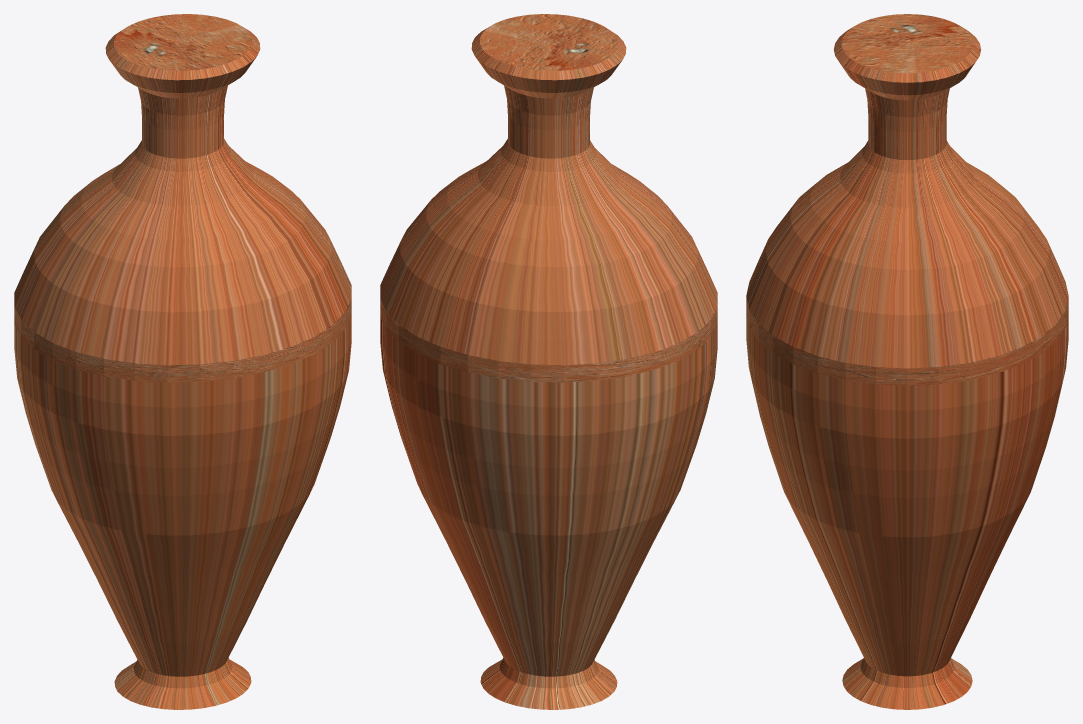
The model's file is Vase3.fbx.
The picture shows the model from 3 angles, left to right: view 1: azimuth 30°, elevation 25°; view 2: azimuth 150°, elevation 25°; view 3: azimuth 270°, elevation 25°; orthographic projection.
Parts seen in each view (by area): view 1: Vase3; view 2: Vase3; view 3: Vase3.
Boxes of the visible parts, left/top/right/bottom form: Vase3: left=14, top=14, right=351, bottom=709; Vase3: left=380, top=14, right=717, bottom=709; Vase3: left=746, top=14, right=1068, bottom=709.
Size of the model in its own units: 189 by 387 by 178.
